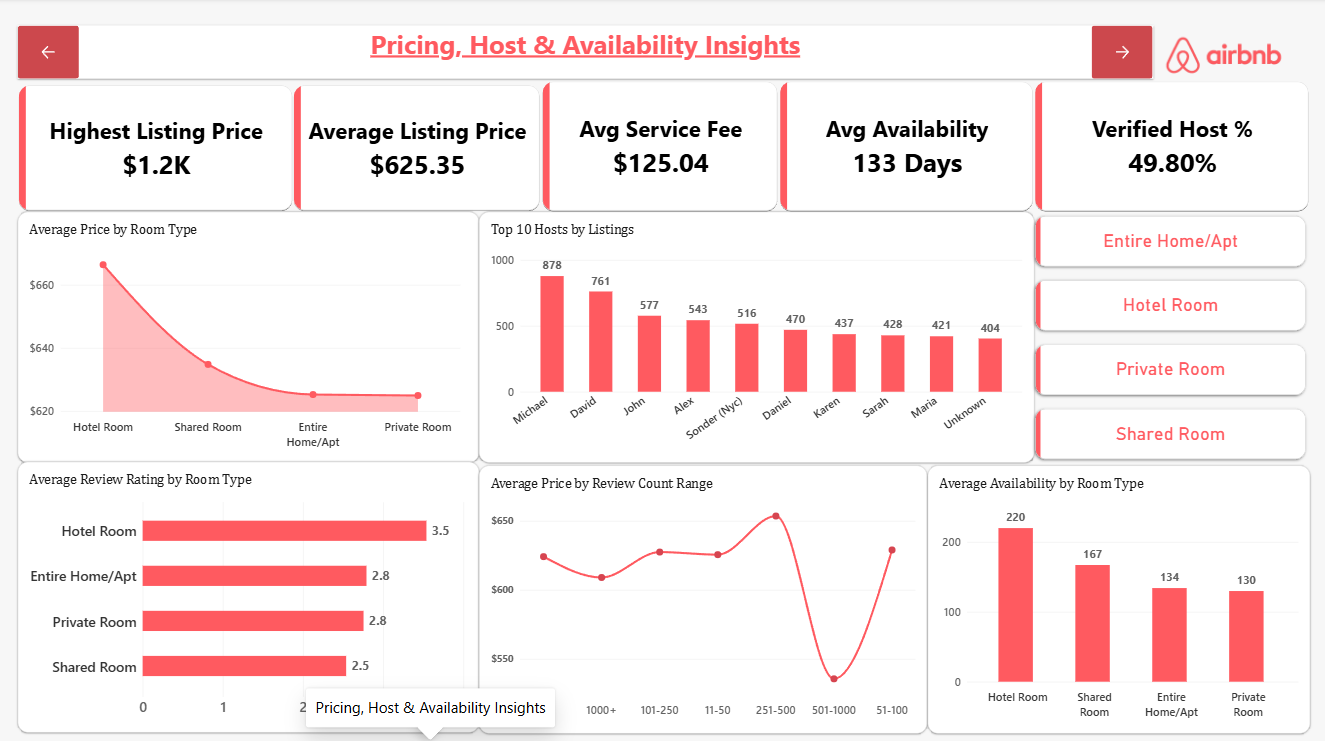

Layout of this report page (visuals, bound fields, positions):
{"tool":"powerbi","page":{"name":"Pricing, Host & Availability Insights","canvas":[1920,1080],"ordinal":2},"visuals":[{"type":"textbox","box":[26.4,39.5,1643.6,77.2],"z":0},{"type":"image","box":[1624.3,11.7,295.7,144],"z":1},{"type":"cardVisual","fields":{"Data":["Measure.Avg Service Fee"]},"box":[785.4,119.4,343.8,190],"z":2},{"type":"cardVisual","fields":{"Data":["Measure.Avg Listing Price"]},"box":[425.3,124.9,359.6,184.5],"z":3},{"type":"cardVisual","fields":{"Data":["Measure.Avg Availability"]},"box":[1129.2,119.4,369.2,190],"z":5},{"type":"cardVisual","fields":{"Data":["Measure.Highest Listing Price"]},"box":[26.4,124.3,399.1,184.5],"z":6},{"type":"cardVisual","fields":{"Data":["Measure.Verified Host %"]},"box":[1498.4,119.4,399.9,190],"z":10},{"type":"actionButton","box":[1581.5,39.5,88.5,77.2],"z":13},{"type":"actionButton","box":[26.4,39.5,88.5,77.2],"z":14},{"type":"areaChart","title":"Average Price by Room Type","fields":{"Category":["Dim_Room.room type"],"Y":["Measure.Avg Listing Price"]},"box":[26.4,308.8,668.4,363.4],"z":15},{"type":"barChart","title":"Average Review Rating by Room Type","fields":{"Category":["Dim_Room.room type"],"Y":["Measure.Avg Reviews"]},"box":[26.4,672.1,668.4,391.6],"z":17},{"type":"columnChart","title":"Top 10 Hosts by Listings","fields":{"Category":["Dim_Host.host name"],"Y":["Measure.Total Listing"]},"box":[694.7,308.8,803.9,363.4],"z":18},{"type":"lineChart","title":"Average Price by Review Count Range","fields":{"Category":["Fact_Airbnb_Listings.Review Range"],"Y":["Measure.Avg Listing Price"]},"box":[695.4,676.8,648.8,387.8],"z":19},{"type":"advancedSlicerVisual","fields":{"Values":["Dim_Room.room type"]},"box":[1494.8,309.5,403.6,365.6],"z":20},{"type":"columnChart","title":"Average Availability by Room Type","fields":{"Category":["Dim_Room.room type"],"Y":["Measure.Avg_Availability"]},"box":[1344.3,676.8,553.7,387.8],"z":22}]}

Visuals, with their boxes in screenshot pixels (x1, y1, x2, y2), scaled from the page's 1920x1080 canvas onto the 1325x741 screenshot:
textbox: [x1=18, y1=27, x2=1152, y2=80]
image: [x1=1121, y1=8, x2=1324, y2=107]
cardVisual - Measure.Avg Service Fee: [x1=542, y1=82, x2=779, y2=212]
cardVisual - Measure.Avg Listing Price: [x1=294, y1=86, x2=542, y2=212]
cardVisual - Measure.Avg Availability: [x1=779, y1=82, x2=1034, y2=212]
cardVisual - Measure.Highest Listing Price: [x1=18, y1=85, x2=294, y2=212]
cardVisual - Measure.Verified Host %: [x1=1034, y1=82, x2=1310, y2=212]
actionButton: [x1=1091, y1=27, x2=1152, y2=80]
actionButton: [x1=18, y1=27, x2=79, y2=80]
"Average Price by Room Type" areaChart: [x1=18, y1=212, x2=479, y2=461]
"Average Review Rating by Room Type" barChart: [x1=18, y1=461, x2=479, y2=730]
"Top 10 Hosts by Listings" columnChart: [x1=479, y1=212, x2=1034, y2=461]
"Average Price by Review Count Range" lineChart: [x1=480, y1=464, x2=928, y2=730]
advancedSlicerVisual - Dim_Room.room type: [x1=1032, y1=212, x2=1310, y2=463]
"Average Availability by Room Type" columnChart: [x1=928, y1=464, x2=1310, y2=730]
